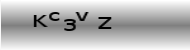3: (62, 18, 77, 32)
K: (33, 14, 48, 28)
Z: (96, 16, 113, 30)
c: (48, 11, 61, 22)
v: (75, 10, 88, 21)
